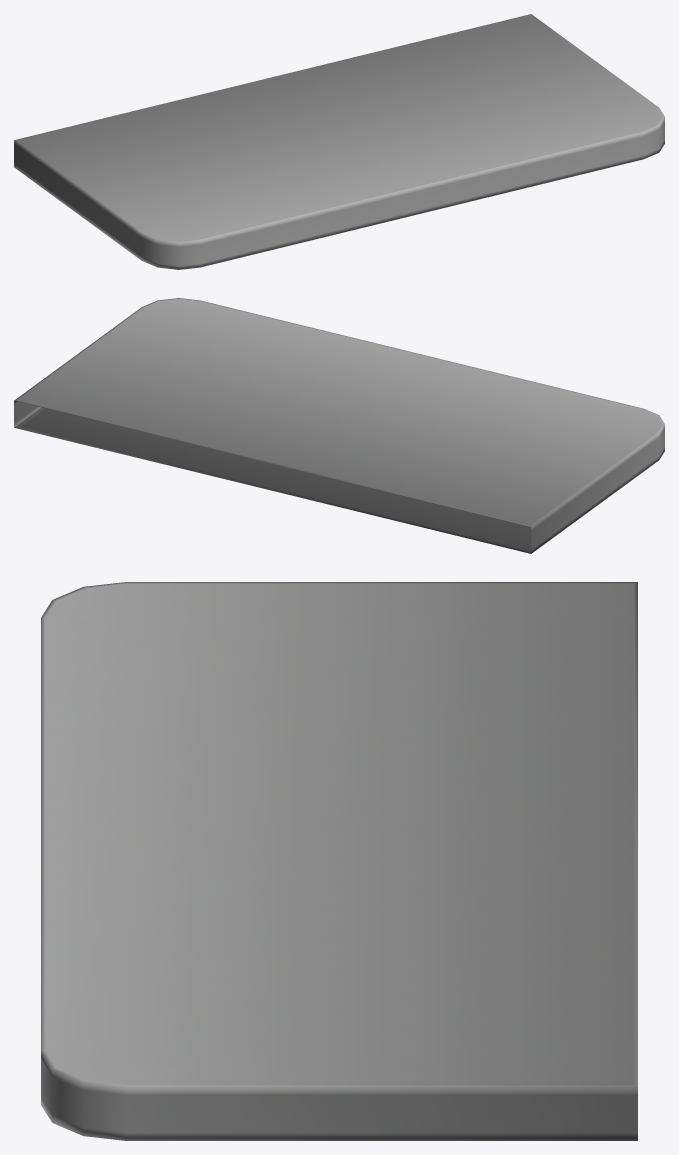
Rendered from environment_shelf.fbx.
The picture shows the model from 3 angles, top to bottom: view 1: azimuth 30°, elevation 25°; view 2: azimuth 150°, elevation 25°; view 3: azimuth 270°, elevation 25°; orthographic projection. The views are drawn at different scales.
Visible parts, largest first — view 1: environment_shelf; view 2: environment_shelf; view 3: environment_shelf.
Boxes of the visible parts, bbox=[...] form: environment_shelf: bbox=[14, 14, 664, 269]; environment_shelf: bbox=[14, 298, 664, 553]; environment_shelf: bbox=[41, 582, 637, 1140].
Bounding box in the file's own units: 100 × 5 × 50.
